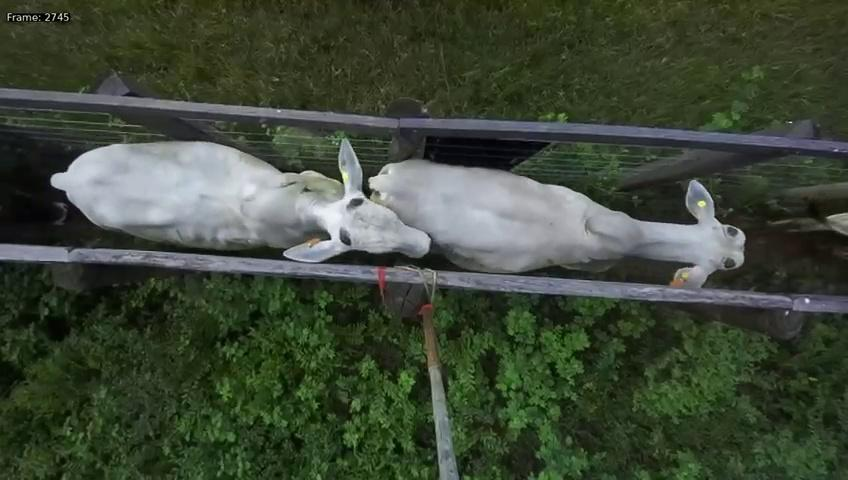cattle: (44, 133, 441, 268), (368, 149, 751, 286)
